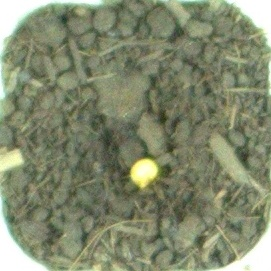chilli seed: (128, 157, 162, 190)
